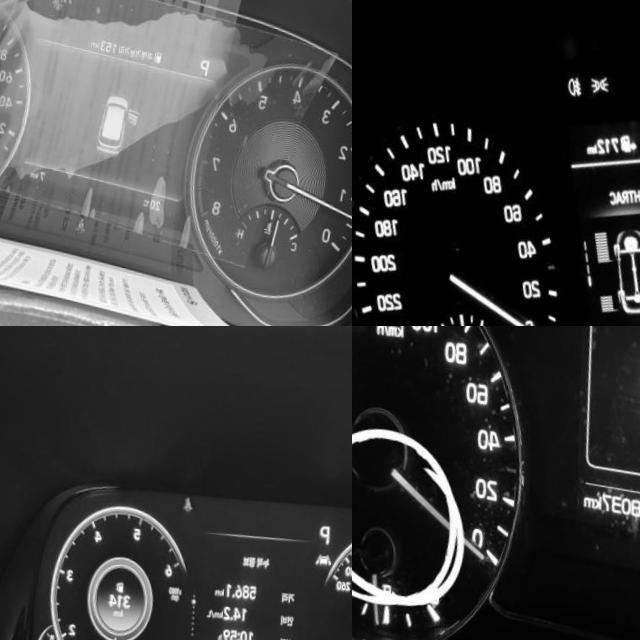FrontFogLight: (569, 66, 588, 91)
LaneCenteringOff: (321, 540, 338, 555)
SideLamp: (591, 63, 615, 88)
